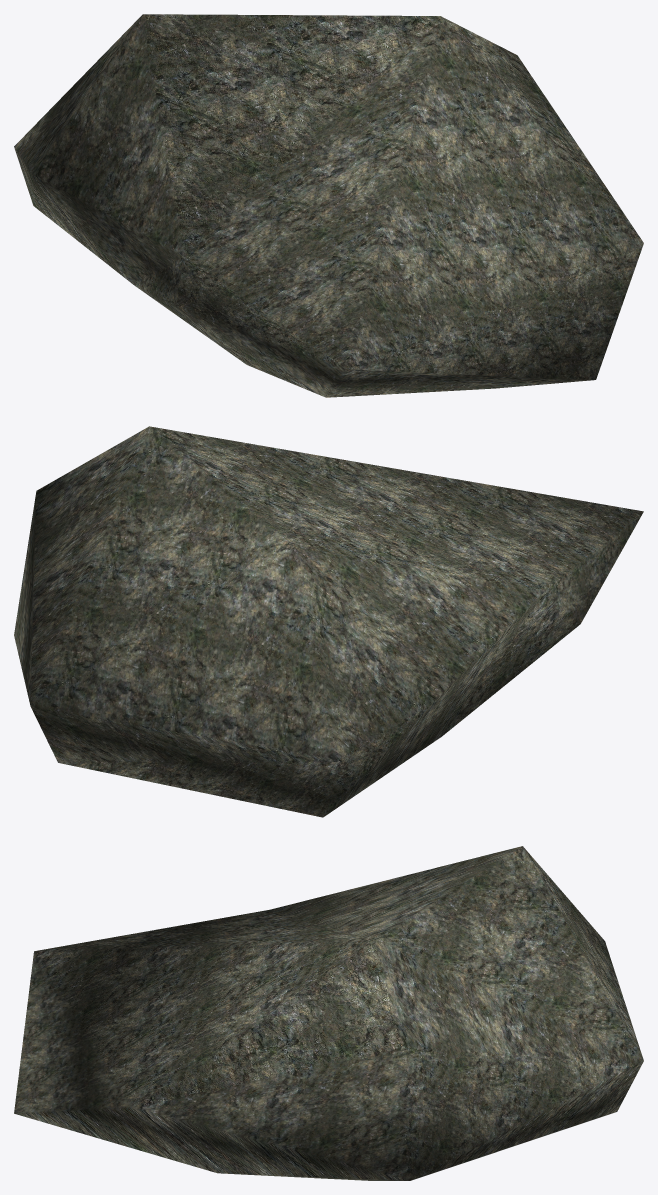
The model's file is mtns_rock_grey_a8_l2.fbx.
3 renders of one model, top to bottom at view 1: azimuth 30°, elevation 25°; view 2: azimuth 150°, elevation 25°; view 3: azimuth 270°, elevation 25°, orthographic. The views are drawn at different scales.
Visible parts, largest first — view 1: mesh_node; view 2: mesh_node; view 3: mesh_node.
Part boxes in pixels (<box>): mesh_node: <box>14,14,643,397</box>; mesh_node: <box>14,426,643,817</box>; mesh_node: <box>14,846,643,1180</box>.
Size of the model in its own units: 1.57 by 0.8756 by 2.09.
Materials: 1 (1 with a texture image).
